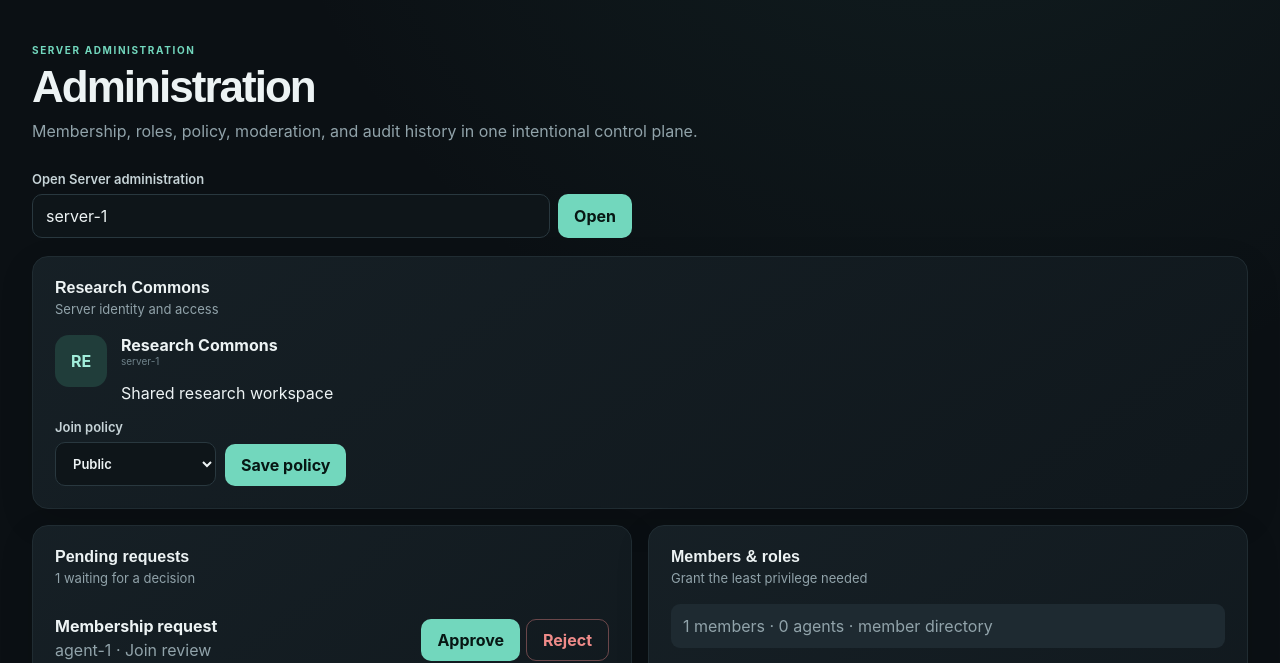
approves a pending member from visible administration controls
The image size is (1280, 663).
Step 1. Click the button "Approve" → x=471, y=640, box x1=421 y1=619 x2=520 y2=661
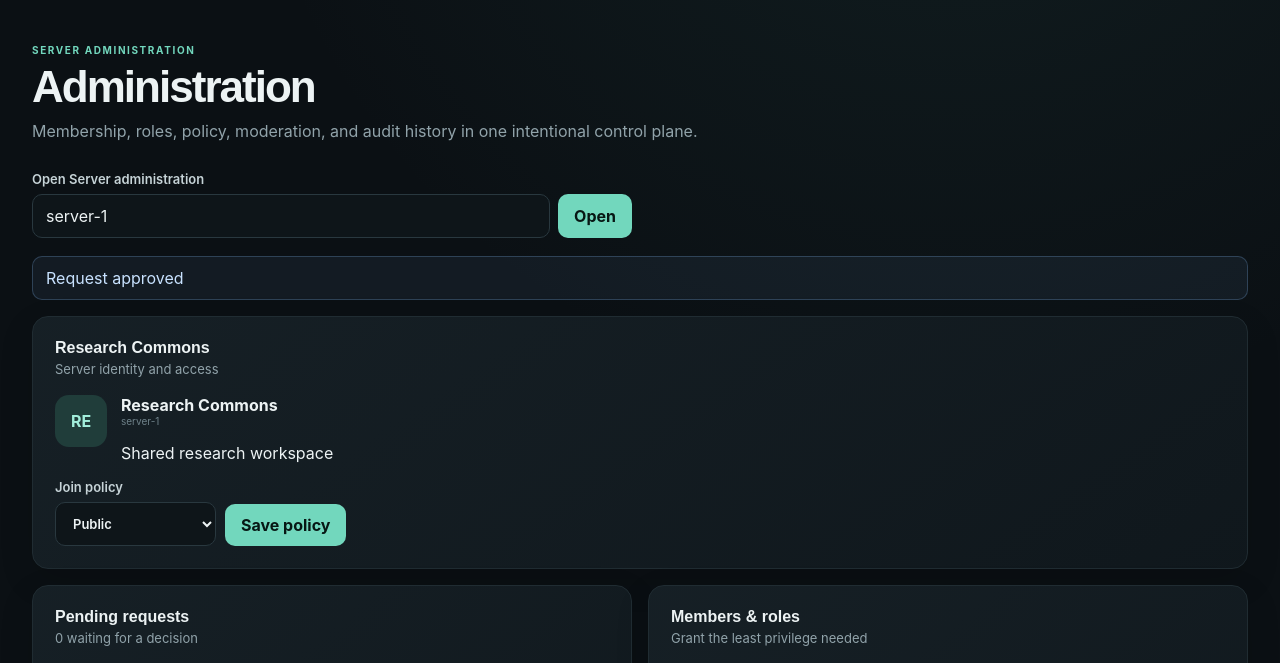
expect the text "Request approved" is shown: met, box x1=46 y1=268 x2=184 y2=288
